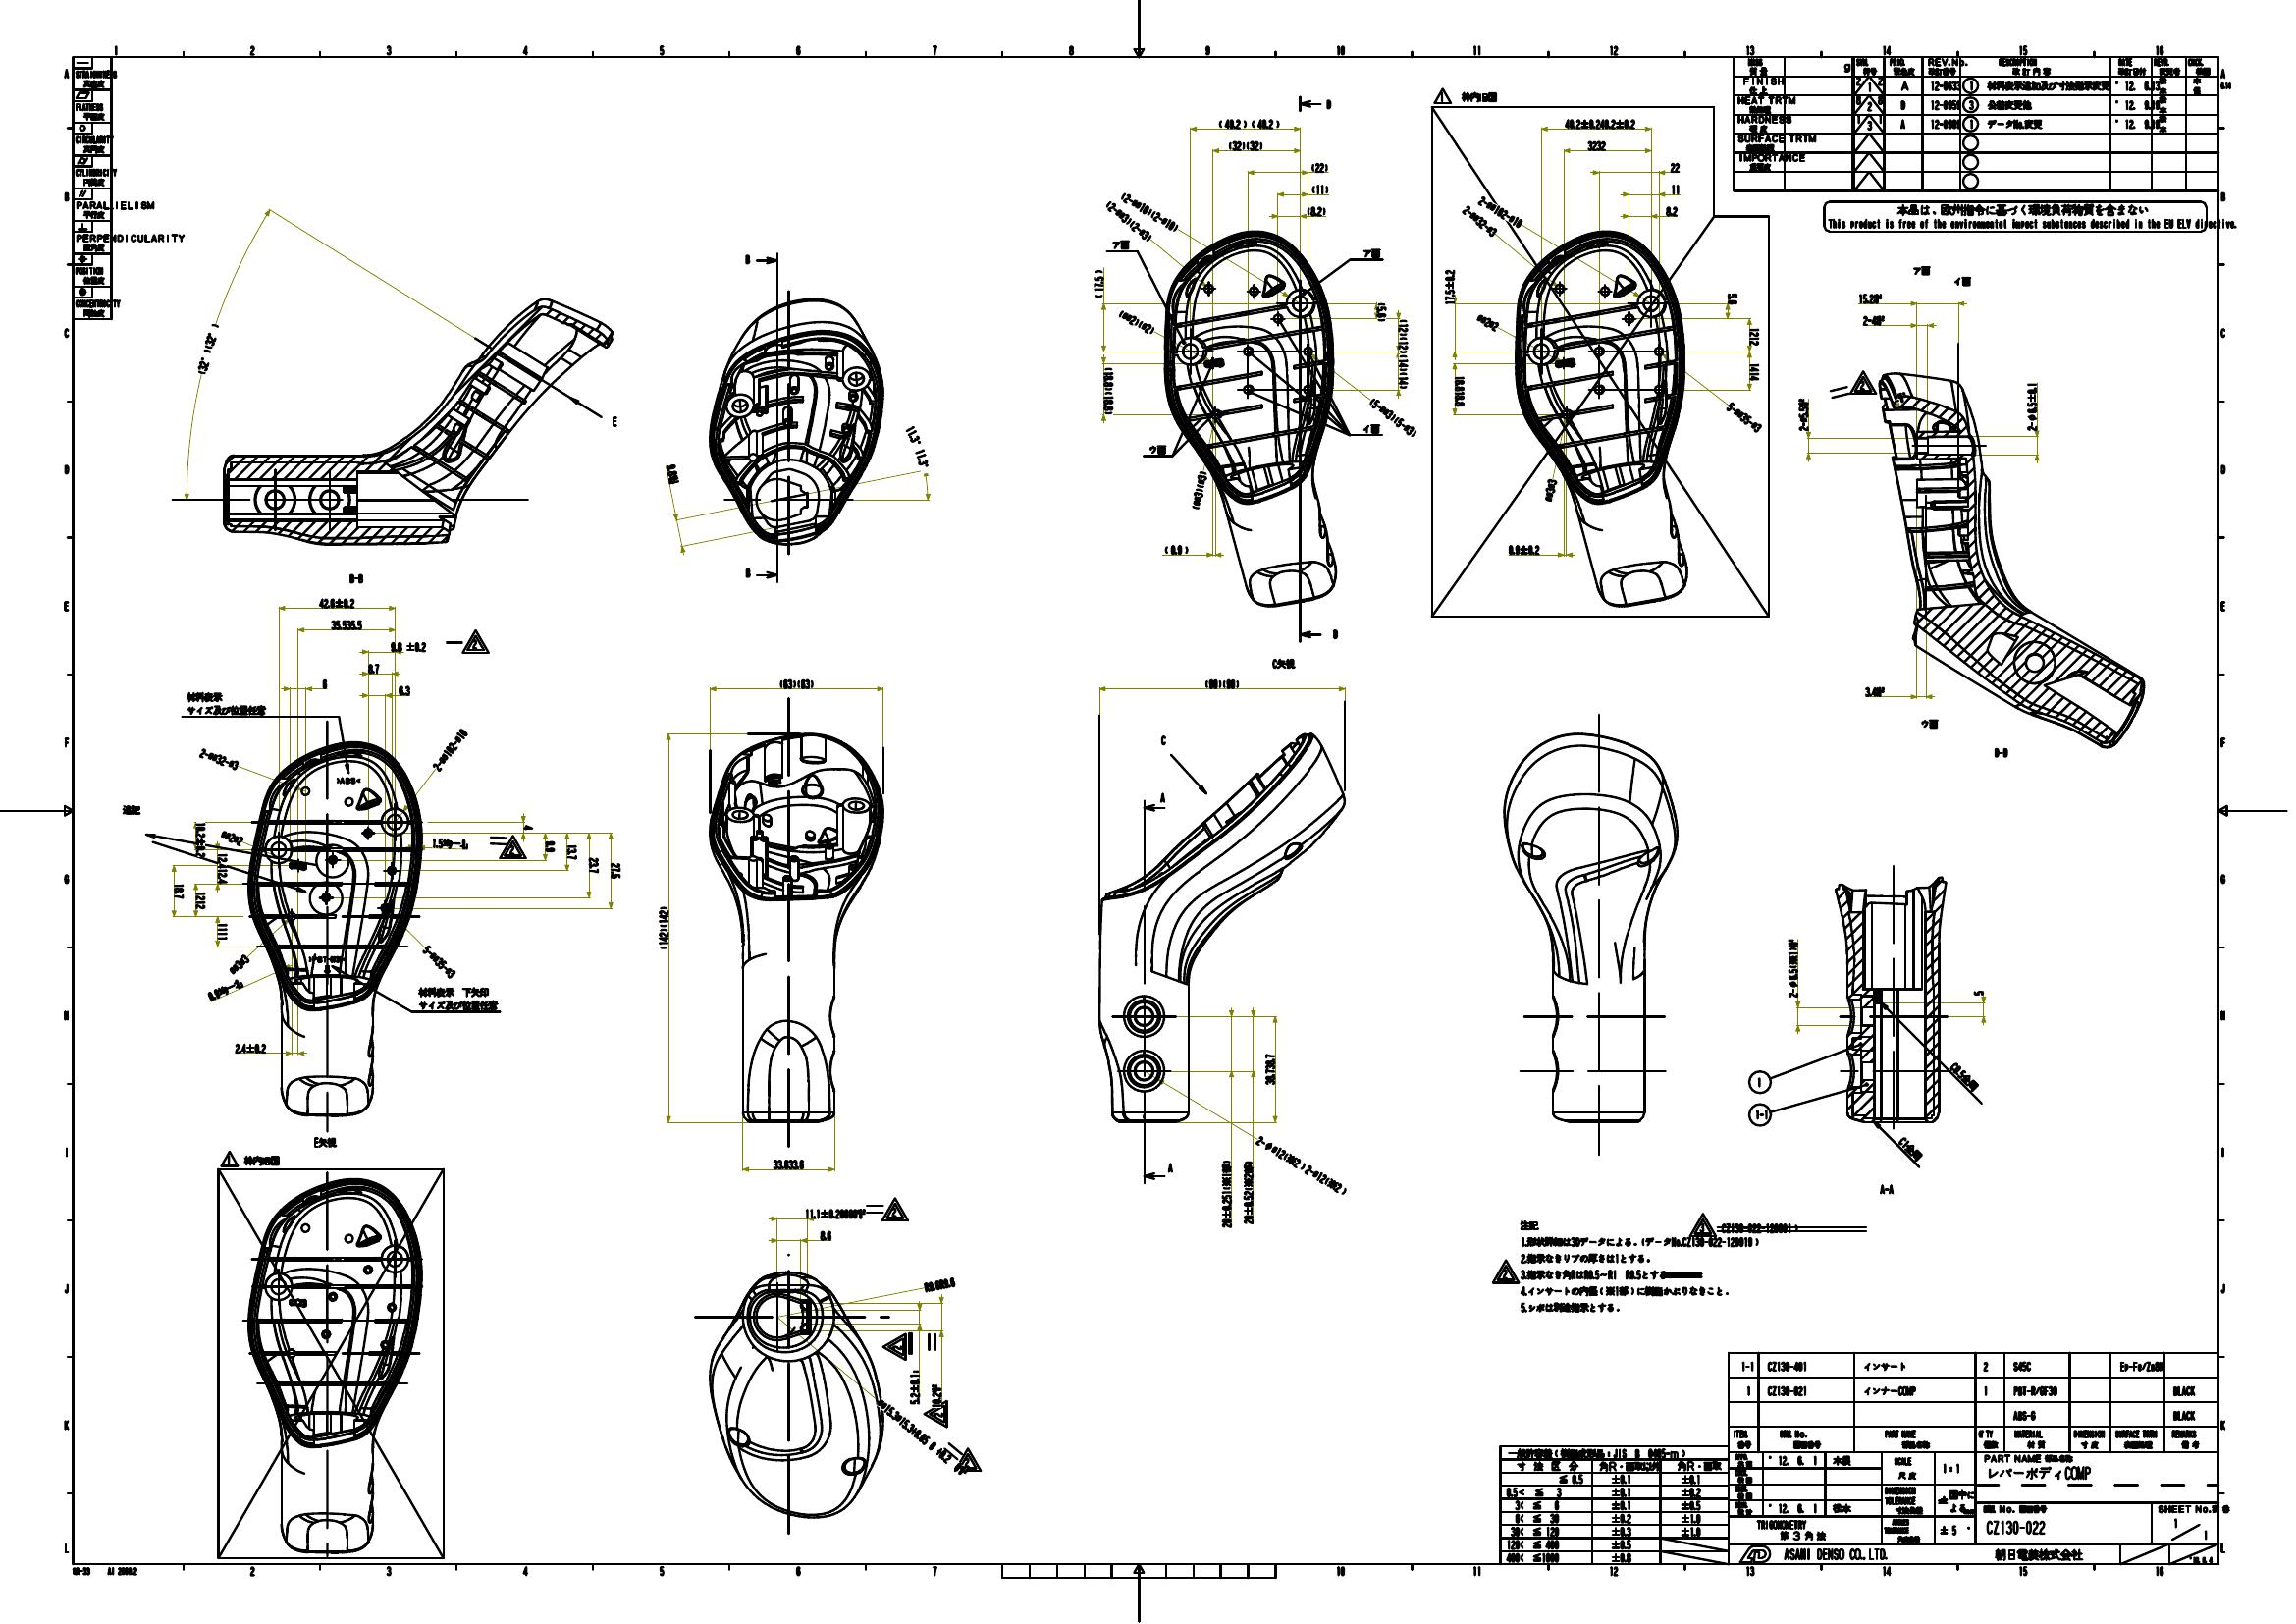anntotation_text: (1518, 1220, 1734, 1313), (1822, 199, 2240, 234), (183, 687, 269, 717), (416, 984, 499, 1014), (494, 833, 529, 861), (1846, 367, 1878, 397), (458, 626, 488, 656), (922, 1399, 950, 1431), (1491, 1258, 1521, 1287), (880, 1195, 908, 1223), (954, 1446, 982, 1473), (882, 1332, 908, 1360), (1746, 1100, 1773, 1128), (1746, 1067, 1773, 1095), (1458, 88, 1498, 104), (239, 1153, 283, 1167), (1874, 1178, 1901, 1199), (309, 1134, 339, 1151), (216, 1149, 241, 1171), (1432, 86, 1455, 105), (1270, 656, 1296, 671), (1360, 422, 1384, 438), (1108, 236, 1133, 251), (344, 571, 365, 589), (1989, 743, 2010, 761), (1910, 264, 1934, 278), (1918, 715, 1939, 731), (1952, 274, 1975, 288), (1360, 246, 1381, 260), (121, 803, 144, 816), (1147, 441, 1166, 455), (1156, 731, 1170, 749), (1163, 1158, 1175, 1176), (608, 413, 620, 431), (1158, 789, 1166, 807), (1330, 626, 1340, 640), (743, 566, 752, 580), (1323, 98, 1332, 112), (743, 251, 750, 265)
dimension_text: (1247, 1158, 1356, 1174), (864, 1424, 964, 1438), (1563, 116, 1639, 132), (1240, 1156, 1256, 1227), (1116, 204, 1184, 220), (1219, 1158, 1233, 1229), (805, 1204, 866, 1220), (1216, 116, 1282, 130), (2024, 380, 2041, 432), (179, 341, 237, 357), (1785, 935, 1799, 1000), (1100, 364, 1116, 417), (1474, 204, 1530, 218), (892, 438, 942, 453), (1363, 413, 1425, 425), (1098, 213, 1159, 225), (655, 905, 671, 951), (423, 742, 474, 756), (1945, 1069, 1983, 1086), (1393, 352, 1409, 394), (1440, 265, 1456, 306), (906, 1367, 922, 1408), (1794, 397, 1811, 432), (197, 752, 241, 766), (430, 835, 469, 851), (775, 677, 817, 691), (1456, 214, 1504, 227), (769, 1156, 806, 1172), (232, 1040, 269, 1056), (193, 819, 207, 859), (204, 984, 244, 998), (1117, 315, 1156, 329), (1203, 677, 1242, 691), (416, 954, 460, 967), (1722, 411, 1765, 424), (1179, 485, 1221, 497), (314, 596, 357, 608), (1892, 1142, 1929, 1156), (1224, 139, 1265, 151), (388, 640, 429, 652), (1453, 373, 1467, 408), (1507, 541, 1542, 555), (329, 617, 364, 631), (1397, 315, 1409, 353), (1263, 1051, 1275, 1088), (921, 1278, 957, 1290), (1857, 290, 1887, 304), (1860, 313, 1887, 329), (1163, 541, 1189, 557), (1093, 267, 1105, 299), (216, 852, 228, 884), (1746, 323, 1760, 350), (1474, 315, 1500, 329), (1303, 204, 1330, 218), (661, 466, 683, 482), (1307, 181, 1332, 195), (929, 1383, 943, 1408), (225, 958, 251, 970), (1537, 485, 1563, 497), (1585, 137, 1607, 151), (564, 842, 580, 861), (1748, 359, 1760, 383), (193, 889, 207, 910), (218, 831, 246, 842), (216, 921, 228, 944), (1660, 204, 1678, 220), (1374, 302, 1388, 322), (1309, 160, 1328, 174), (1725, 290, 1739, 308), (608, 861, 620, 881), (1667, 179, 1681, 195), (1667, 160, 1683, 174), (587, 856, 599, 874), (172, 882, 183, 902), (1969, 984, 1983, 998), (365, 661, 379, 675), (817, 1229, 833, 1241), (397, 684, 411, 696), (320, 675, 330, 691), (545, 838, 555, 854)
object: (1880, 369, 2147, 749), (1096, 729, 1347, 1125), (221, 295, 615, 547), (706, 729, 887, 1125), (1500, 729, 1679, 1125), (246, 1176, 425, 1554), (244, 740, 423, 1118), (1513, 228, 1690, 608), (1163, 228, 1339, 606), (706, 1267, 887, 1520), (706, 297, 885, 548), (1832, 875, 1948, 1125)
title_block: (1725, 1350, 2222, 1568), (1732, 54, 2220, 193), (1497, 1443, 1730, 1566), (70, 54, 114, 322)
